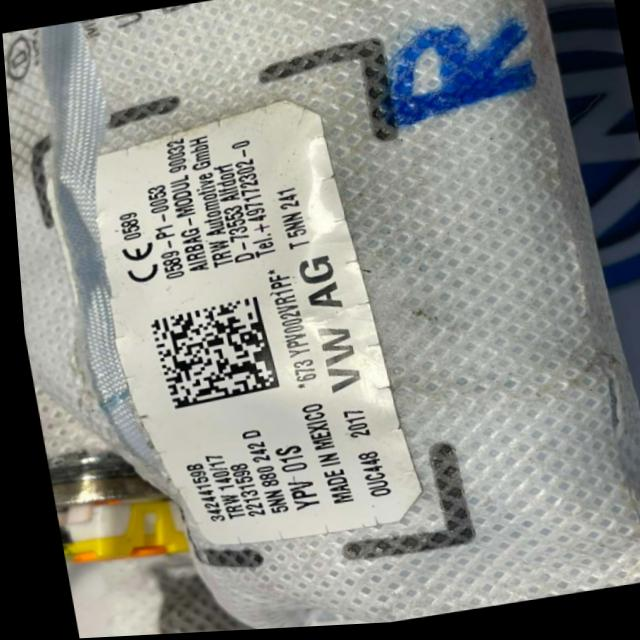datamatrix: (143, 297, 275, 412)
